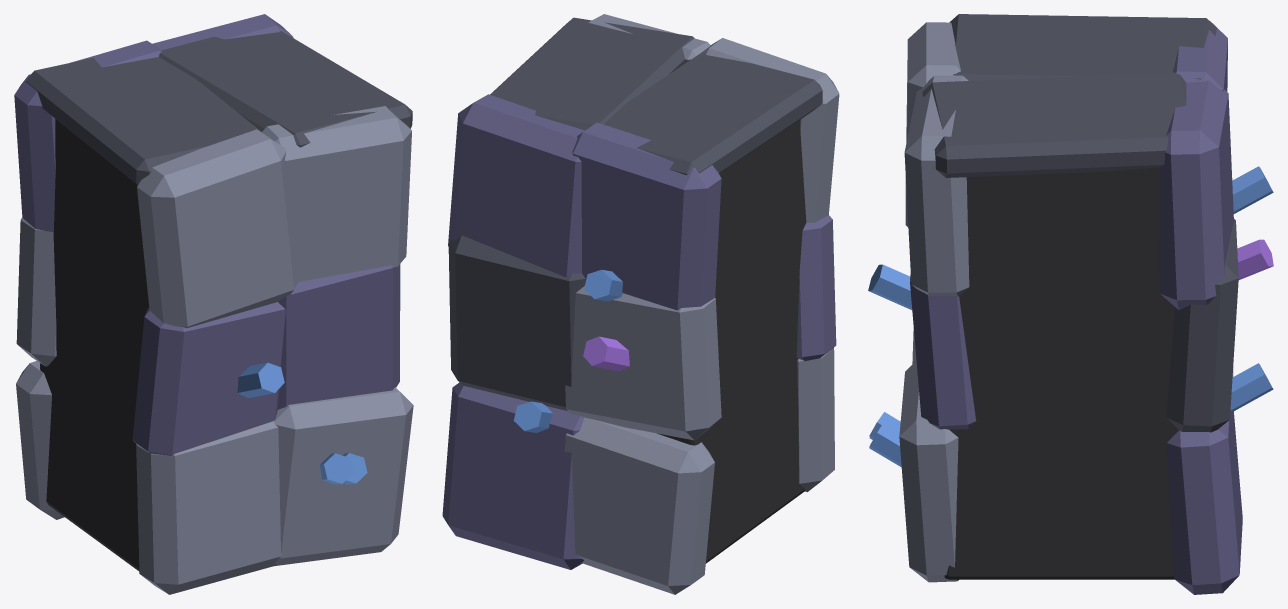
The model's file is mine-wall-ore.glb.
The picture shows the model from 3 angles, left to right: view 1: azimuth 30°, elevation 25°; view 2: azimuth 150°, elevation 25°; view 3: azimuth 270°, elevation 25°; orthographic projection. The views are drawn at different scales.
Visible parts, largest first — view 1: mine-wall-ore, glow-mine-wall-ore; view 2: mine-wall-ore, glow-mine-wall-ore; view 3: mine-wall-ore, glow-mine-wall-ore.
Boxes of the visible parts, x1=… form: mine-wall-ore: x1=14, y1=14, x2=413, y2=594; glow-mine-wall-ore: x1=237, y1=362, x2=367, y2=484; mine-wall-ore: x1=442, y1=14, x2=839, y2=594; glow-mine-wall-ore: x1=513, y1=269, x2=629, y2=432; mine-wall-ore: x1=899, y1=14, x2=1242, y2=594; glow-mine-wall-ore: x1=868, y1=166, x2=1273, y2=467.
Size of the model in its own units: 1.11 by 1.74 by 1.36.
Materials: 1 (1 with a texture image).
